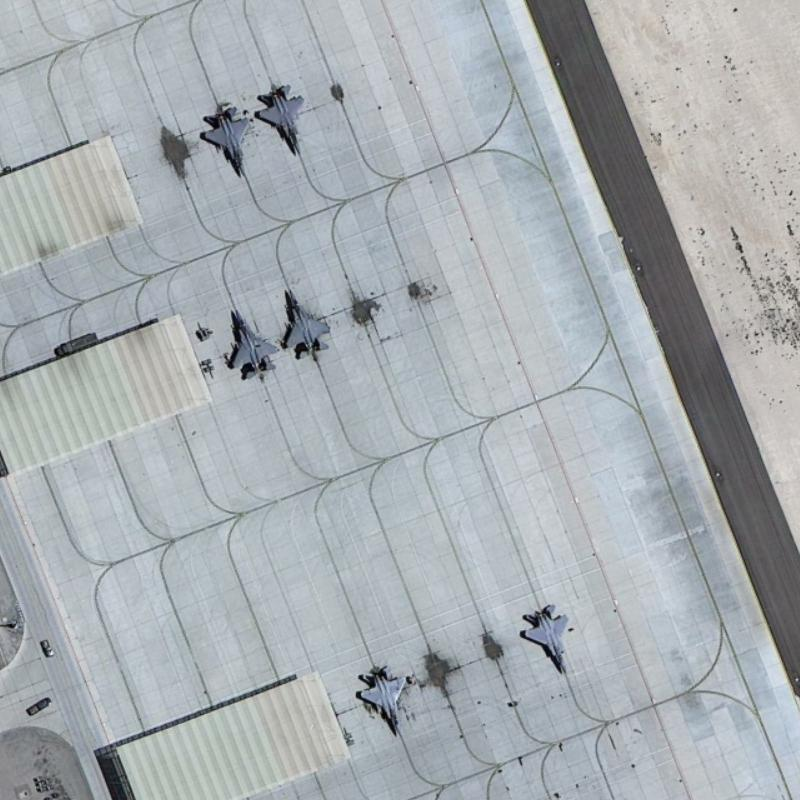A13: (193, 94, 260, 180), (511, 595, 580, 678), (214, 300, 282, 383), (349, 654, 415, 739), (274, 277, 336, 363), (252, 78, 314, 155)
